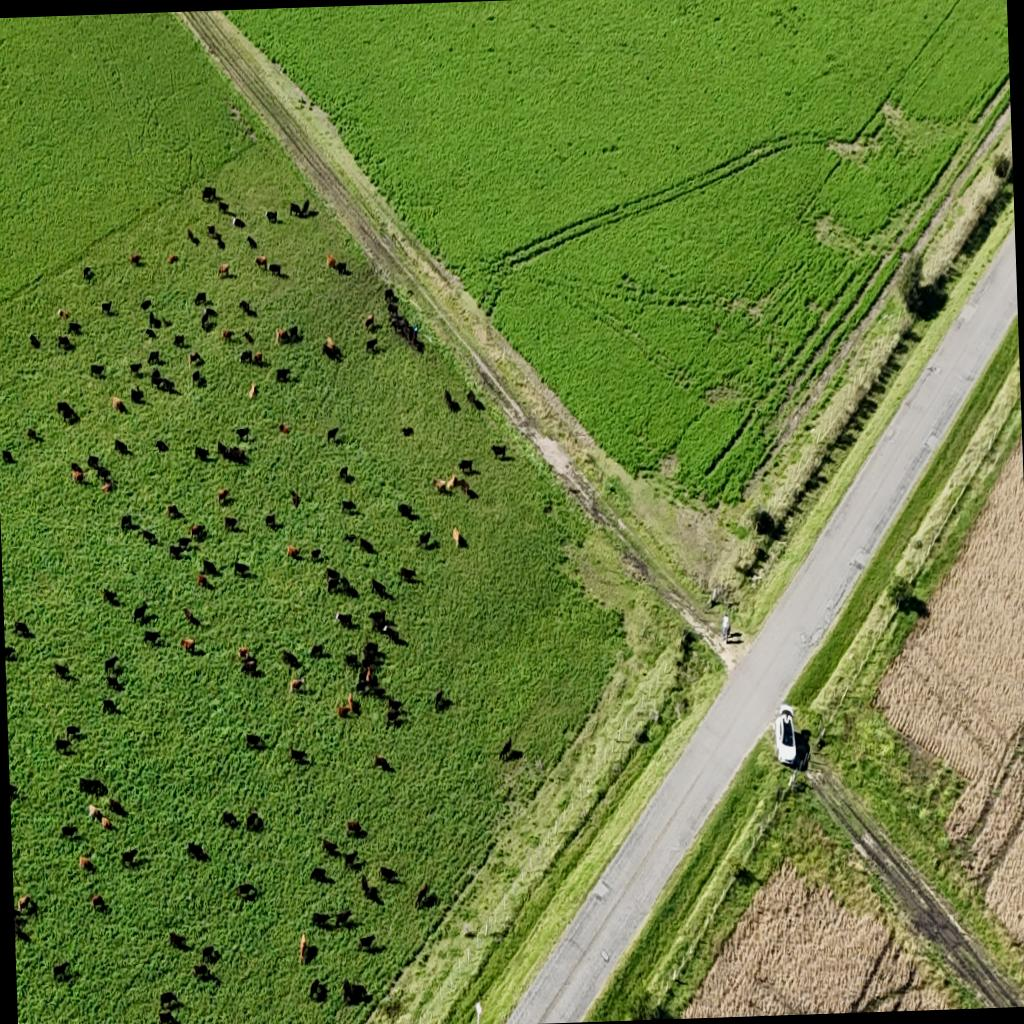cow: (194, 175, 221, 207), (341, 978, 368, 1006), (218, 441, 248, 466), (78, 774, 108, 798), (384, 694, 404, 726), (381, 622, 404, 646), (450, 476, 474, 498), (308, 977, 328, 1003), (335, 691, 355, 717), (168, 930, 191, 952), (88, 460, 111, 482), (185, 840, 208, 862), (17, 894, 38, 918), (361, 640, 380, 666), (158, 989, 180, 1011), (361, 679, 385, 699), (358, 666, 376, 692), (200, 306, 218, 332), (311, 911, 334, 931), (52, 960, 72, 983), (433, 687, 450, 713), (120, 846, 140, 868), (330, 908, 352, 928), (336, 580, 358, 600), (370, 576, 388, 600), (280, 649, 300, 670), (414, 880, 429, 908), (390, 312, 407, 336), (56, 400, 76, 420), (200, 944, 220, 964), (290, 198, 310, 218), (379, 864, 399, 884), (466, 388, 484, 410), (234, 882, 256, 900), (244, 810, 262, 832), (299, 942, 317, 964), (444, 388, 460, 412), (310, 866, 330, 885), (106, 796, 125, 816), (357, 934, 377, 953), (155, 376, 175, 395), (360, 873, 374, 900), (132, 602, 149, 624), (159, 1007, 181, 1024), (288, 745, 307, 764), (321, 837, 339, 857), (220, 810, 238, 830), (101, 587, 119, 607), (244, 732, 264, 750), (398, 566, 418, 584), (192, 962, 212, 980), (200, 558, 218, 578), (396, 293, 413, 314), (498, 736, 512, 761), (14, 620, 33, 638), (54, 735, 72, 754), (345, 818, 364, 836), (142, 629, 161, 647), (324, 567, 340, 588), (70, 462, 85, 484), (398, 502, 416, 520), (458, 458, 476, 476), (238, 299, 256, 317), (112, 438, 130, 456), (358, 536, 376, 554), (232, 560, 250, 578), (140, 610, 158, 628), (105, 672, 121, 692), (240, 656, 256, 676), (410, 332, 424, 354), (490, 442, 507, 460), (101, 696, 118, 714), (335, 611, 352, 629), (140, 528, 158, 545), (373, 753, 389, 772), (376, 614, 391, 634), (60, 822, 78, 838), (194, 445, 210, 463), (338, 466, 354, 484), (86, 453, 102, 471), (64, 722, 82, 738), (103, 655, 119, 673), (342, 852, 360, 868), (168, 542, 184, 560), (174, 534, 192, 550), (86, 804, 102, 822), (234, 426, 250, 443), (340, 498, 357, 514), (0, 450, 17, 466), (120, 514, 134, 533), (56, 334, 72, 350), (90, 363, 106, 379), (54, 662, 70, 678), (274, 367, 290, 383), (222, 516, 238, 532), (166, 504, 182, 520), (308, 643, 324, 659), (342, 652, 358, 668), (434, 476, 449, 493), (78, 854, 93, 871), (191, 370, 205, 388), (148, 312, 162, 330), (417, 531, 432, 547), (129, 386, 144, 402), (14, 920, 24, 944), (384, 287, 398, 304), (286, 325, 300, 342), (111, 395, 125, 412), (90, 892, 104, 909), (239, 348, 252, 366), (100, 814, 113, 832), (150, 367, 162, 386), (26, 427, 41, 442), (67, 320, 82, 335), (289, 677, 304, 692), (188, 351, 202, 367), (172, 334, 186, 350), (190, 522, 204, 538), (334, 260, 348, 276), (452, 526, 462, 548), (180, 637, 194, 652), (326, 426, 339, 442), (365, 338, 378, 354), (186, 228, 199, 244), (216, 487, 229, 503), (255, 254, 268, 270), (289, 490, 300, 508), (146, 350, 160, 364), (154, 439, 168, 453), (220, 328, 234, 342), (502, 446, 516, 460), (264, 514, 277, 529), (268, 262, 280, 278), (182, 608, 194, 624), (196, 573, 208, 589), (342, 532, 358, 544), (324, 336, 335, 353), (129, 362, 142, 376), (143, 326, 156, 340), (246, 235, 258, 250), (194, 291, 206, 306), (364, 312, 374, 330), (243, 330, 254, 346), (326, 253, 337, 269), (266, 210, 278, 224), (82, 266, 94, 280), (28, 334, 40, 348), (216, 200, 228, 214), (232, 216, 246, 228), (100, 300, 112, 314), (129, 252, 141, 266), (309, 548, 321, 562), (286, 544, 298, 558), (238, 646, 250, 660), (274, 328, 286, 342), (101, 480, 113, 494), (214, 234, 224, 250), (140, 298, 152, 311), (216, 263, 228, 276), (400, 426, 414, 437), (4, 644, 13, 660), (278, 422, 290, 434), (364, 665, 372, 683), (252, 351, 262, 365), (58, 308, 69, 320), (166, 253, 178, 264), (248, 382, 256, 398), (230, 108, 240, 120), (206, 224, 215, 237), (542, 503, 552, 514), (10, 783, 16, 799)
